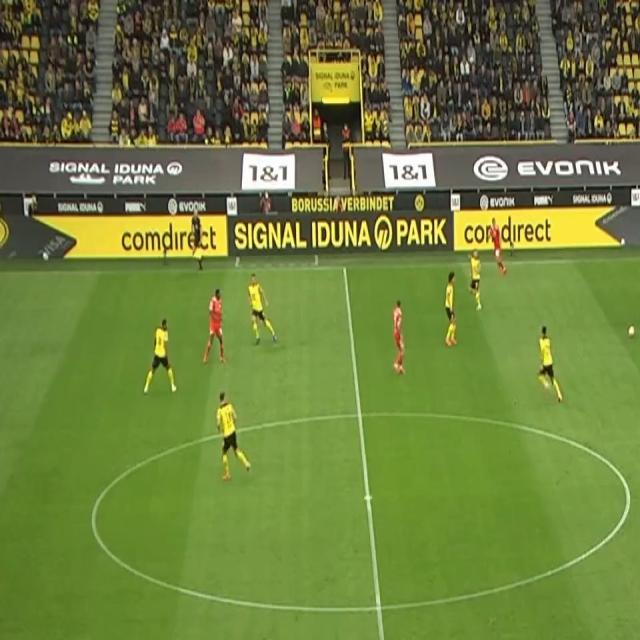ball: (627, 324, 635, 338)
